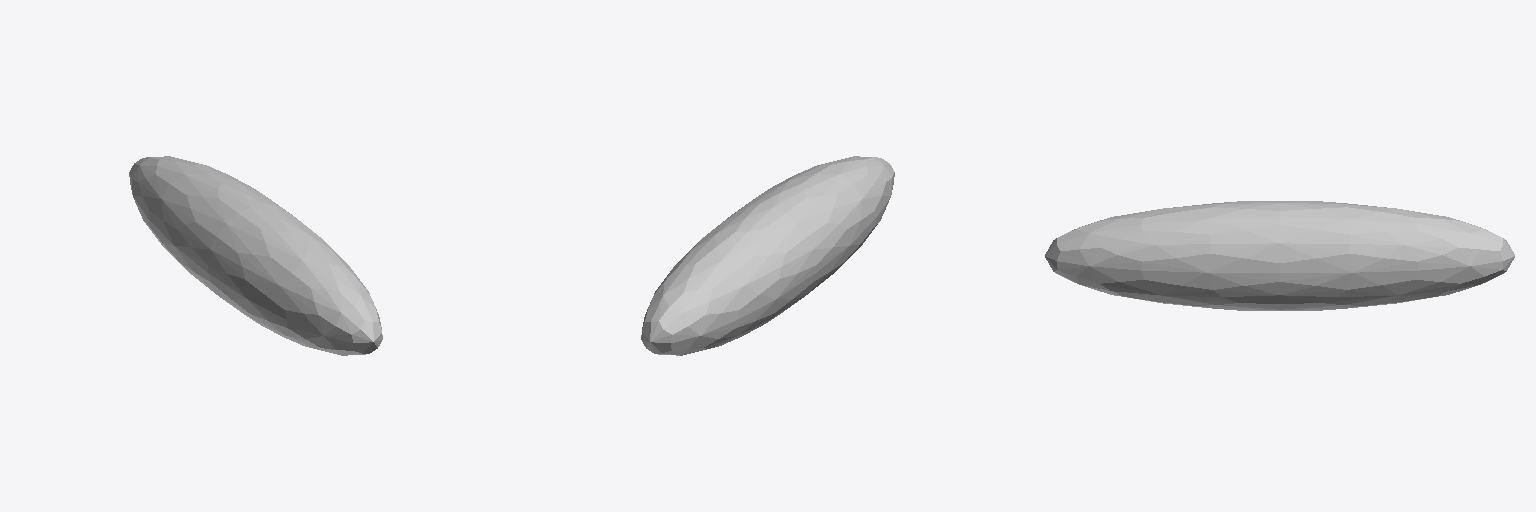
Rendered from void_core_conector.obj.
The picture shows the model from 3 angles: view 1: azimuth 30°, elevation 25°; view 2: azimuth 150°, elevation 25°; view 3: azimuth 270°, elevation 25°; orthographic projection.
Parts seen in each view (by area): view 1: Icosphere; view 2: Icosphere; view 3: Icosphere.
Part boxes in pixels (bbox=[...]): Icosphere: bbox=[129, 156, 382, 355]; Icosphere: bbox=[641, 156, 894, 355]; Icosphere: bbox=[1045, 201, 1514, 310].
Bounding box in the file's own units: 8.26 × 8.22 × 35.05.